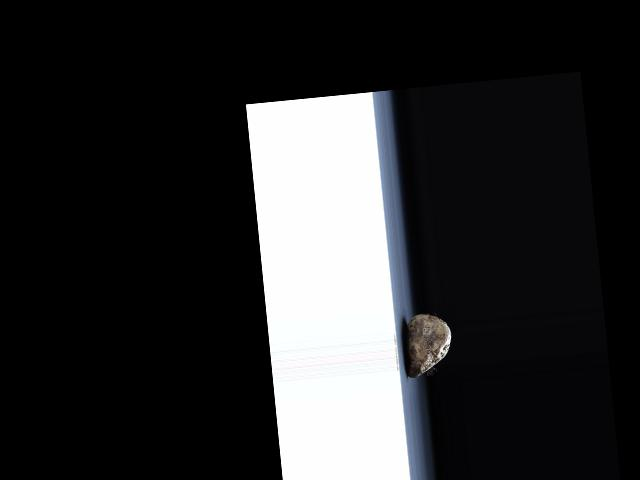beet: (401, 310, 454, 377)
